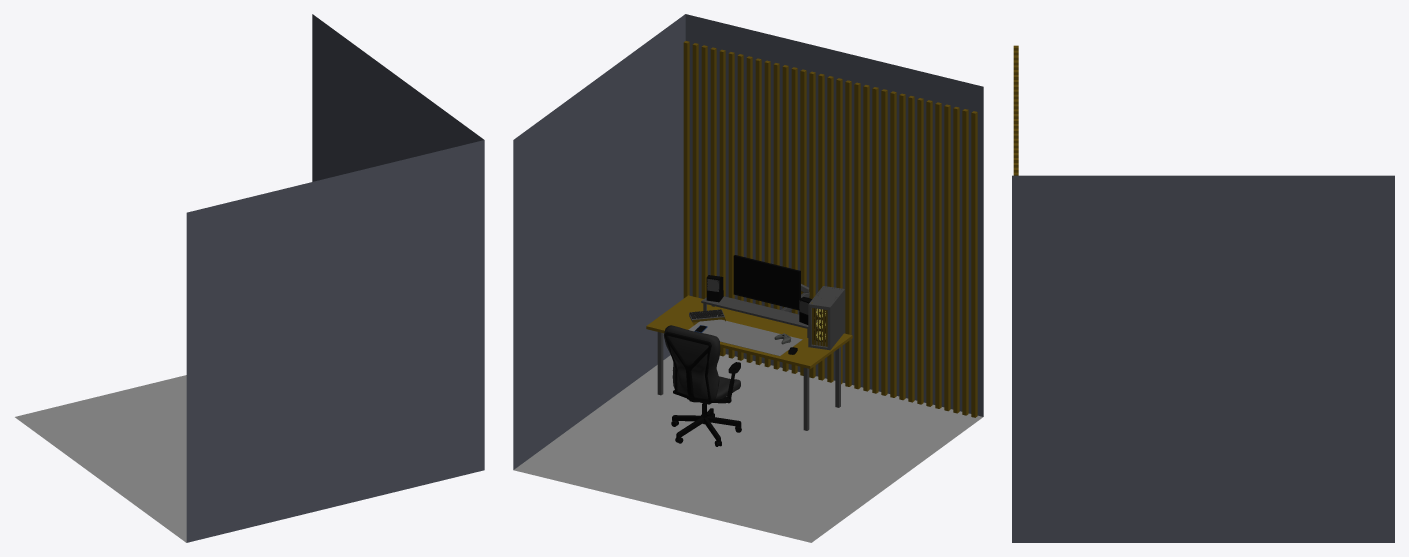
Rendered from PBL_room(1).fbx.
3 views of the same model, side by side, from view 1: azimuth 30°, elevation 25°; view 2: azimuth 150°, elevation 25°; view 3: azimuth 270°, elevation 25° (orthographic). The views are drawn at different scales.
Parts seen in each view (by area): view 1: Plane; view 2: Plane, Wool, chair, desk, moniter_panel, PC, desk_mat, deskshelf, speaker, moniter; view 3: Plane, Wool.
Boxes of the visible parts, <box> form: Plane: <box>15,14,484,542</box>; Plane: <box>513,14,983,542</box>; Wool: <box>683,41,977,417</box>; chair: <box>664,325,741,446</box>; desk: <box>646,295,852,430</box>; moniter_panel: <box>735,257,798,309</box>; PC: <box>808,286,844,350</box>; desk_mat: <box>688,319,802,356</box>; deskshelf: <box>701,296,816,337</box>; speaker: <box>706,275,817,324</box>; moniter: <box>733,255,809,311</box>; Plane: <box>1012,175,1394,542</box>; Wool: <box>1013,45,1018,175</box>.
Bounding box in the file's own units: 327 × 327 × 346.
